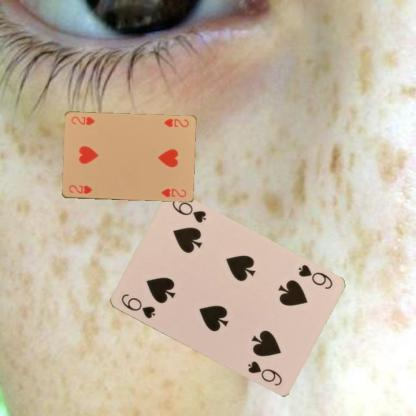2h: (161, 116, 190, 128), (66, 183, 93, 195)
6s: (118, 291, 156, 320), (296, 262, 334, 290)
